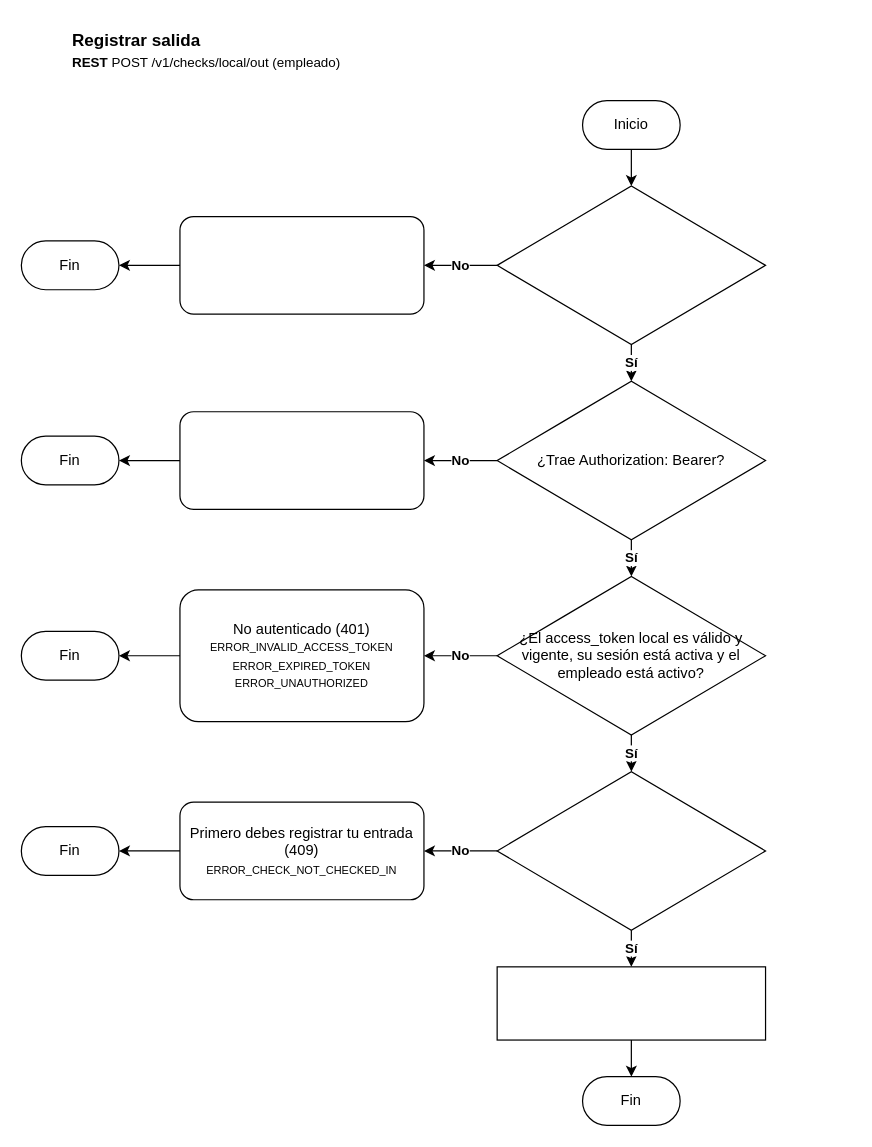
This 872x1147 diagram has some shape labels left out. The shapes that lost their labels are listed below. From the top down, each one's box as (x1, y1, x2, y2) in pixels, then its label:
(179, 215, 424, 314): Servidor sin emparejar (409) ERROR_SERVER_NOT_PAIRED
(496, 185, 766, 345): ¿El servidor ya se emparejó alguna vez (pairing_status distinto de unpaired)?
(179, 411, 424, 509): Falta el token (401) ERROR_MISSING_TOKEN
(496, 770, 766, 930): ¿Tiene una entrada abierta?
(496, 966, 766, 1040): Responder 200 con el mensaje CHECKED_OUT
